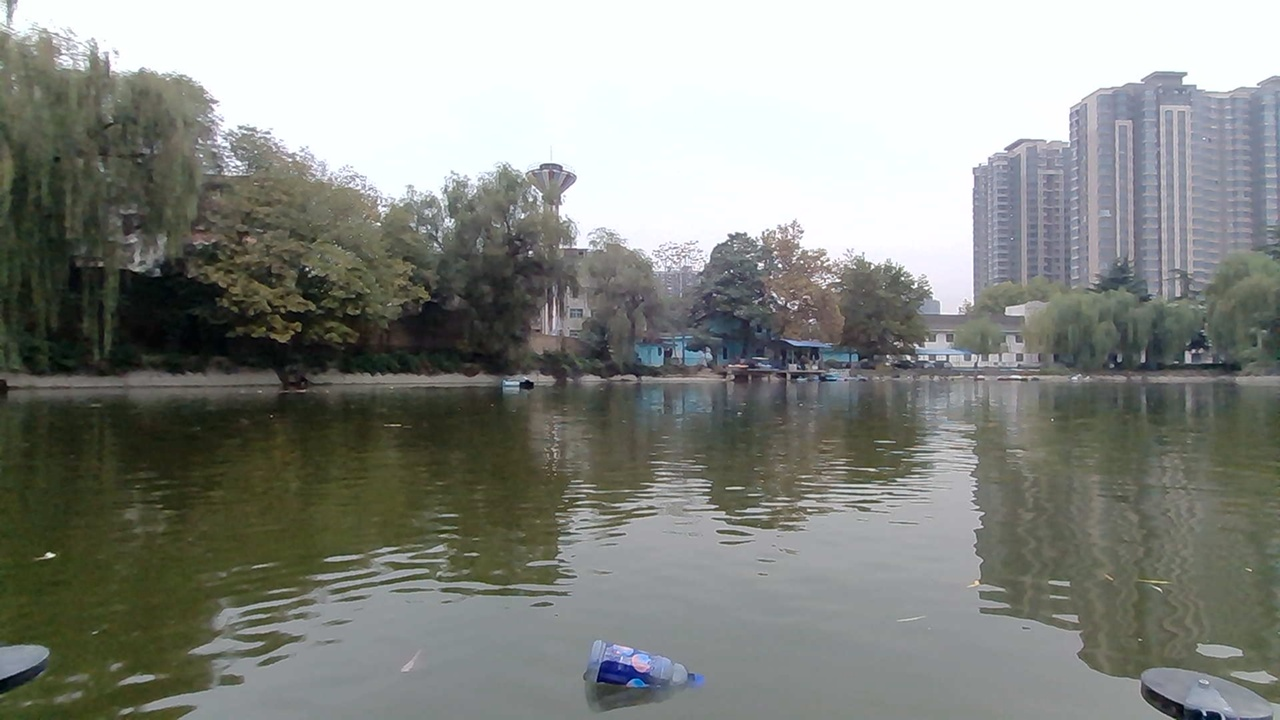bottle: (574, 645, 699, 708)
